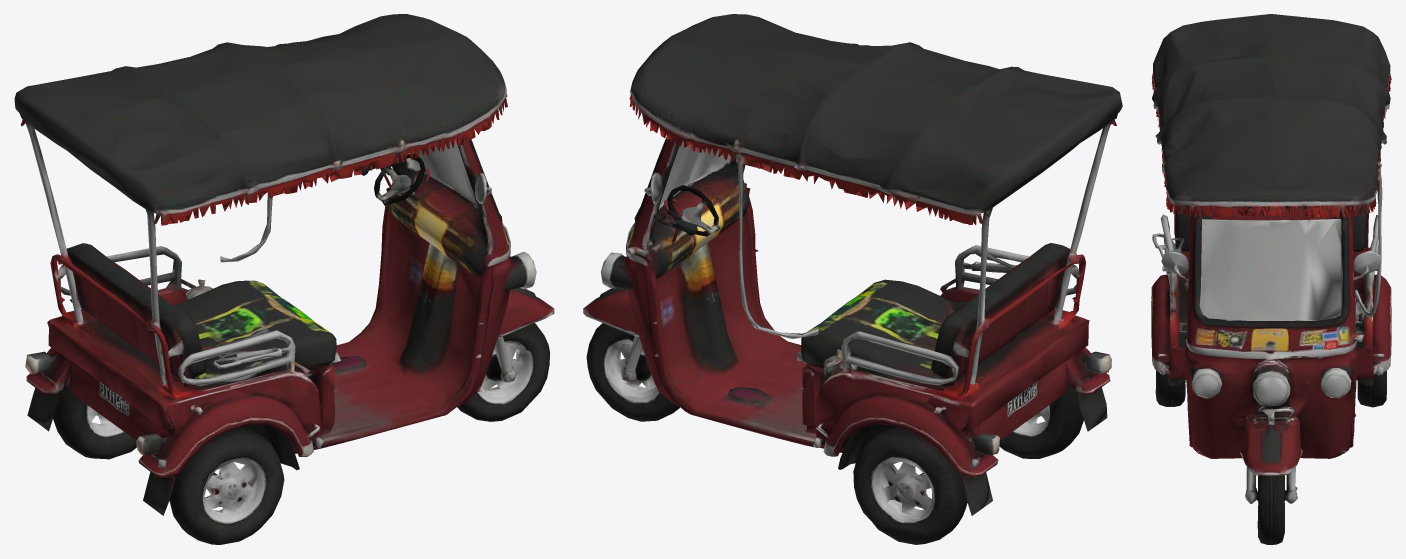
File: tuktuk.glb
3 views of the same model, side by side, from view 1: azimuth 30°, elevation 25°; view 2: azimuth 150°, elevation 25°; view 3: azimuth 270°, elevation 25° (orthographic). The views are drawn at different scales.
Visible parts, largest first — view 1: tripo_node_d57ae9e5-103c-43c7-82d2-e96889897c3a; view 2: tripo_node_d57ae9e5-103c-43c7-82d2-e96889897c3a; view 3: tripo_node_d57ae9e5-103c-43c7-82d2-e96889897c3a.
Boxes of the visible parts, <box> form: tripo_node_d57ae9e5-103c-43c7-82d2-e96889897c3a: <box>14,14,554,544</box>; tripo_node_d57ae9e5-103c-43c7-82d2-e96889897c3a: <box>583,14,1122,544</box>; tripo_node_d57ae9e5-103c-43c7-82d2-e96889897c3a: <box>1151,14,1391,544</box>.
Bounding box in the file's own units: 2.28 × 1.8 × 1.12.
1 material, 1 textured.
